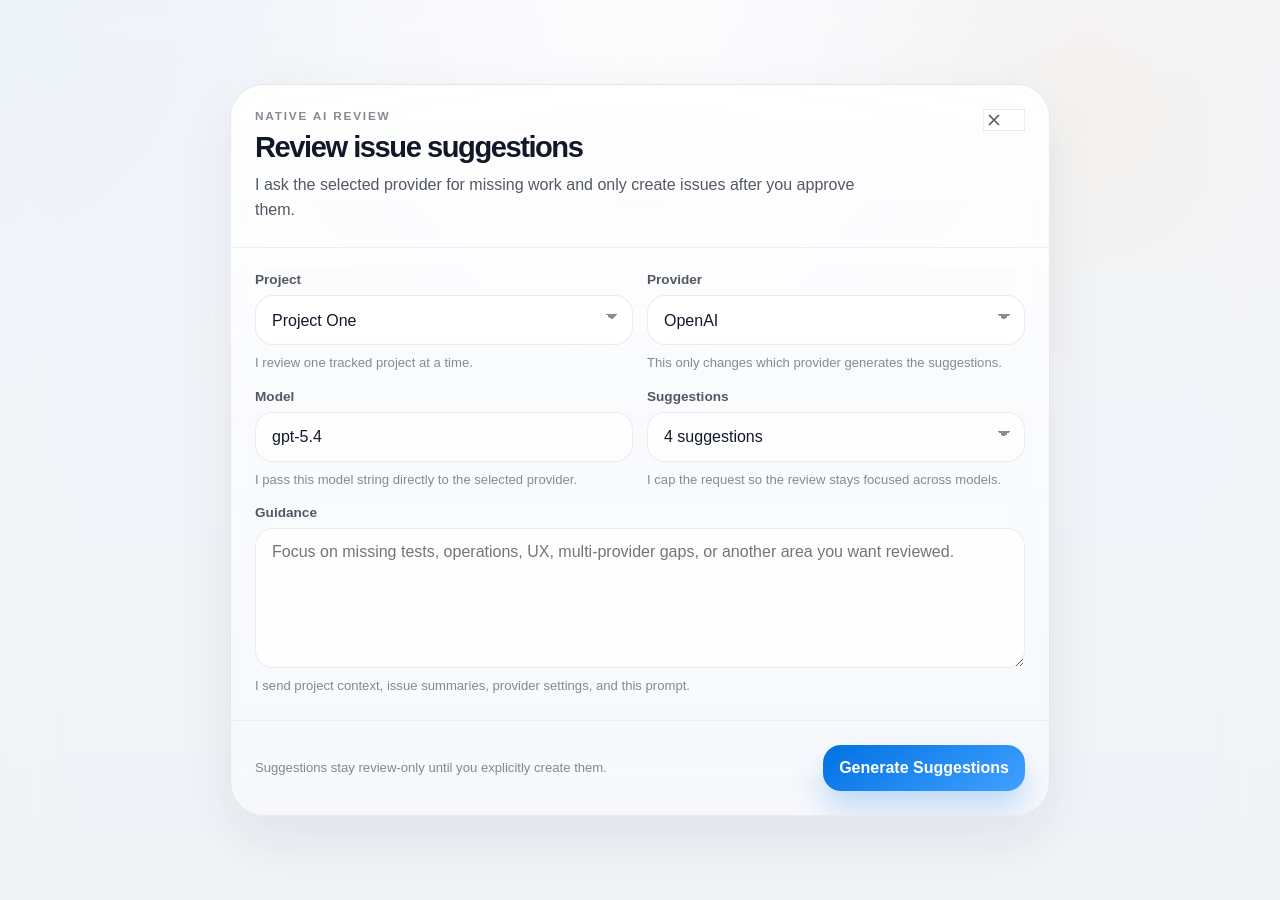
Test: SuggestIssuesModal › keeps already-created suggestions marked when create all stops on a later failure
The image size is (1280, 900).
Click the button "Generate Suggestions" at (924, 768), box x1=823 y1=745 x2=1025 y2=791
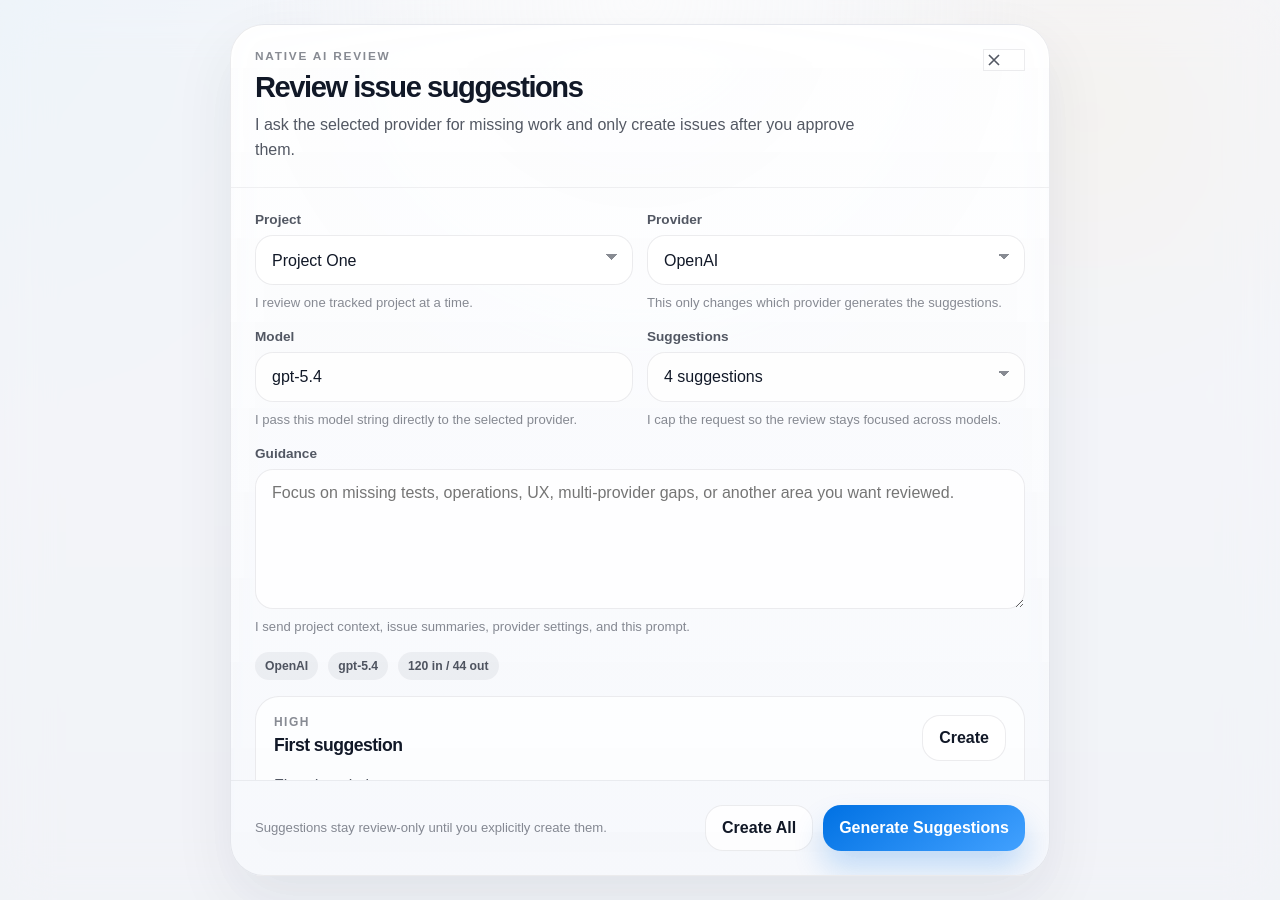
Now the heading "First suggestion" is shown, box x1=274 y1=735 x2=402 y2=756
Click the button "Create All" at (759, 828), box x1=705 y1=805 x2=813 y2=851
(page scrolled)
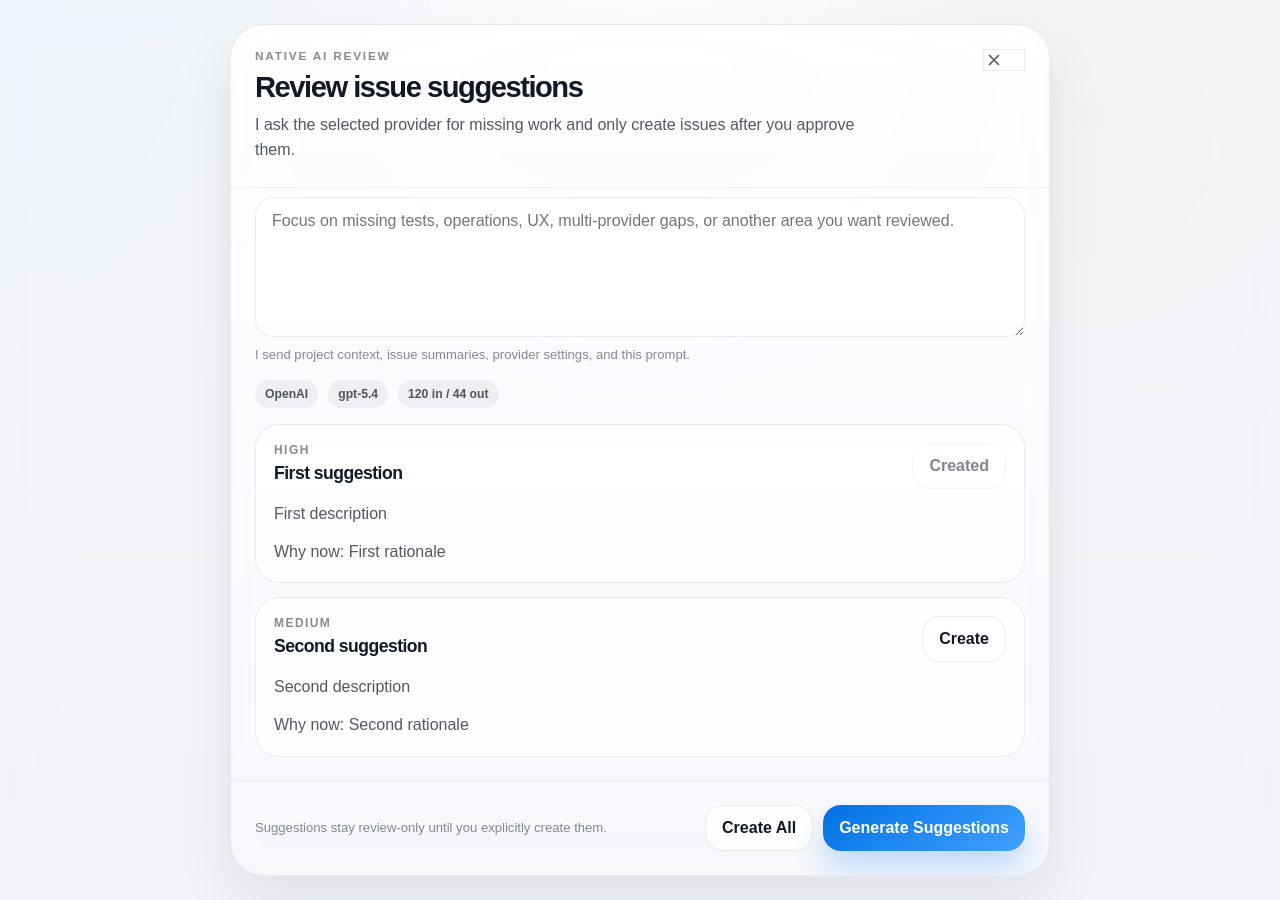
Now the button "Created" is shown, box x1=912 y1=443 x2=1006 y2=489
Now the button "Create" is shown, box x1=922 y1=616 x2=1006 y2=662
